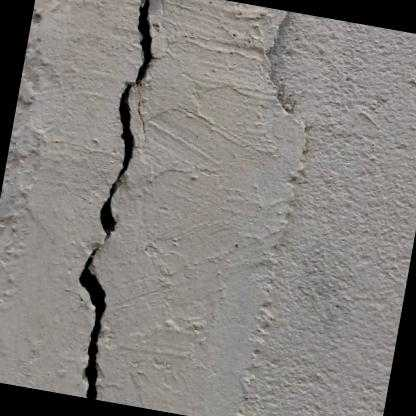crack: (72, 0, 157, 400)
